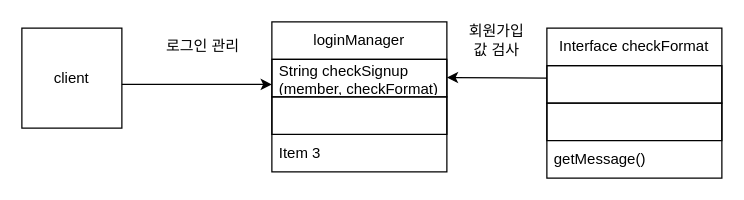
The diagram is 744 pixels wide and 200 high, and some of its shapes have lost their labels. Here are the shapes that lost their labels. From the top down, the centre of each, then its label:
point 634,83: checkEmpty(member)
point 634,121: checkRegex(member)
